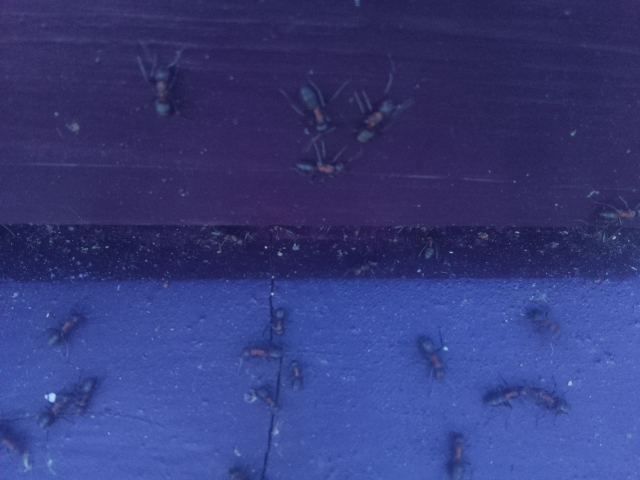ant: (128, 46, 185, 126), (346, 86, 405, 153), (411, 332, 449, 383), (44, 308, 87, 352), (441, 425, 474, 480), (297, 81, 333, 129), (239, 381, 283, 417), (288, 155, 347, 181), (33, 388, 63, 436), (72, 374, 104, 418), (240, 343, 290, 363), (287, 357, 308, 395), (267, 304, 290, 338)
